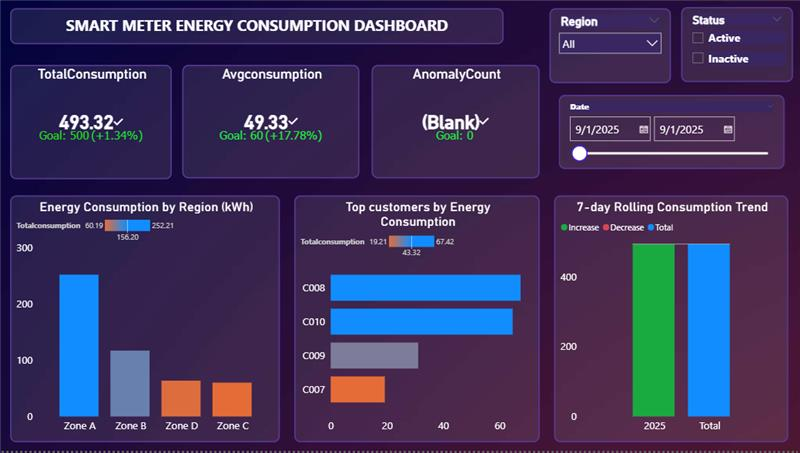

The dashboard page shown, as its layout file describes it:
{"tool":"powerbi","page":{"name":"Page 1","canvas":[1280,720],"ordinal":0},"visuals":[{"type":"columnChart","title":"Energy Consumption by Region (kWh)","fields":{"Category":["Clean_Smart_Meter_Data.Region"],"Y":["Clean_Smart_Meter_Data.Totalconsumption"]},"box":[18.4,315.2,429.5,392.7],"z":0},{"type":"waterfallChart","title":"7-day Rolling Consumption Trend","fields":{"Category":["Clean_Smart_Meter_Data.Date.Variation.Date Hierarchy.Year","Clean_Smart_Meter_Data.Date.Variation.Date Hierarchy.Quarter","Clean_Smart_Meter_Data.Date.Variation.Date Hierarchy.Month","Clean_Smart_Meter_Data.Date.Variation.Date Hierarchy.Day"],"Y":["Clean_Smart_Meter_Data.Rolling7"]},"box":[884.9,315.2,372.4,392.7],"z":1000},{"type":"slicer","fields":{"Values":["Clean_Smart_Meter_Data.Region"]},"box":[876.8,16.5,193,119.5],"z":2000},{"type":"kpi","title":"Avgconsumption ","fields":{"Indicator":["Clean_Smart_Meter_Data.Avgconsumption"],"TrendLine":["Clean_Smart_Meter_Data.Date"],"Goal":["Clean_Smart_Meter_Data.TargetAvg"]},"box":[293.1,106.9,282.1,180.7],"z":3000},{"type":"kpi","title":"AnomalyCount ","fields":{"Indicator":["Clean_Smart_Meter_Data.AnomalyCount"],"TrendLine":["Clean_Smart_Meter_Data.Date"],"Goal":["Clean_Smart_Meter_Data.Targetana"]},"box":[593.6,106.9,267.3,180.7],"z":4000},{"type":"slicer","fields":{"Values":["Clean_Smart_Meter_Data.Status"]},"box":[1086.4,14.7,178.3,119.5],"z":5000},{"type":"slicer","fields":{"Values":["Clean_Smart_Meter_Data.Date"]},"box":[892.3,154.9,359.5,118],"z":6000},{"type":"barChart","title":"Top customers by Energy Consumption","fields":{"Category":["Clean_Smart_Meter_Data.Customer_ID"],"Y":["Clean_Smart_Meter_Data.Totalconsumption"]},"box":[470.1,315.2,390.8,392.7],"z":7000},{"type":"textbox","box":[18.4,16.6,785.3,57.1],"z":8000},{"type":"kpi","title":"TotalConsumption","fields":{"Indicator":["Clean_Smart_Meter_Data.Totalconsumption"],"TrendLine":["Clean_Smart_Meter_Data.Date"],"Goal":["Clean_Smart_Meter_Data.Target"]},"box":[18.4,106.6,257.3,182],"z":9000}]}

Visuals, with their boxes in screenshot pixels (x1, y1, x2, y2), scaled from the page's 1280x720 canvas onto the 800x453 screenshot:
"Energy Consumption by Region (kWh)" columnChart: x1=12 y1=198 x2=280 y2=445
"7-day Rolling Consumption Trend" waterfallChart: x1=553 y1=198 x2=786 y2=445
slicer - Clean_Smart_Meter_Data.Region: x1=548 y1=10 x2=669 y2=86
"Avgconsumption " kpi: x1=183 y1=67 x2=360 y2=181
"AnomalyCount " kpi: x1=371 y1=67 x2=538 y2=181
slicer - Clean_Smart_Meter_Data.Status: x1=679 y1=9 x2=790 y2=84
slicer - Clean_Smart_Meter_Data.Date: x1=558 y1=97 x2=782 y2=172
"Top customers by Energy Consumption" barChart: x1=294 y1=198 x2=538 y2=445
textbox: x1=12 y1=10 x2=502 y2=46
"TotalConsumption" kpi: x1=12 y1=67 x2=172 y2=182
